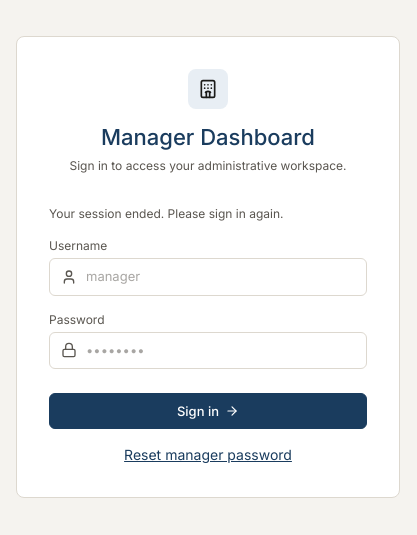
Reference login design with real authentication › shows expired-session feedback and validates empty credentials
Check: the message shows "Your session ended", box [49, 206, 283, 221]
Click the button "Sign in" at (208, 411), box [49, 393, 367, 429]
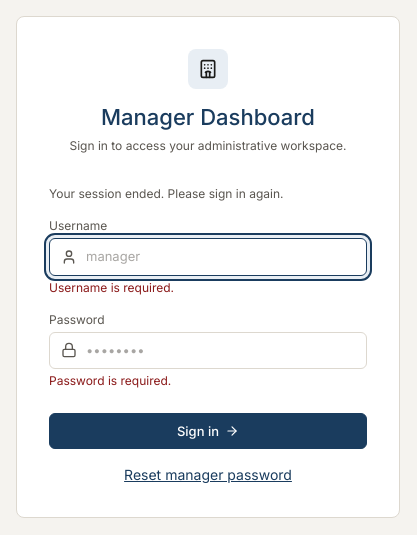
Check: the text "Username is required." is shown, box [49, 280, 174, 294]
